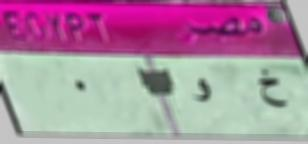0: (69, 76, 90, 95)
khaa: (255, 65, 290, 113)
waw: (189, 77, 215, 110)
